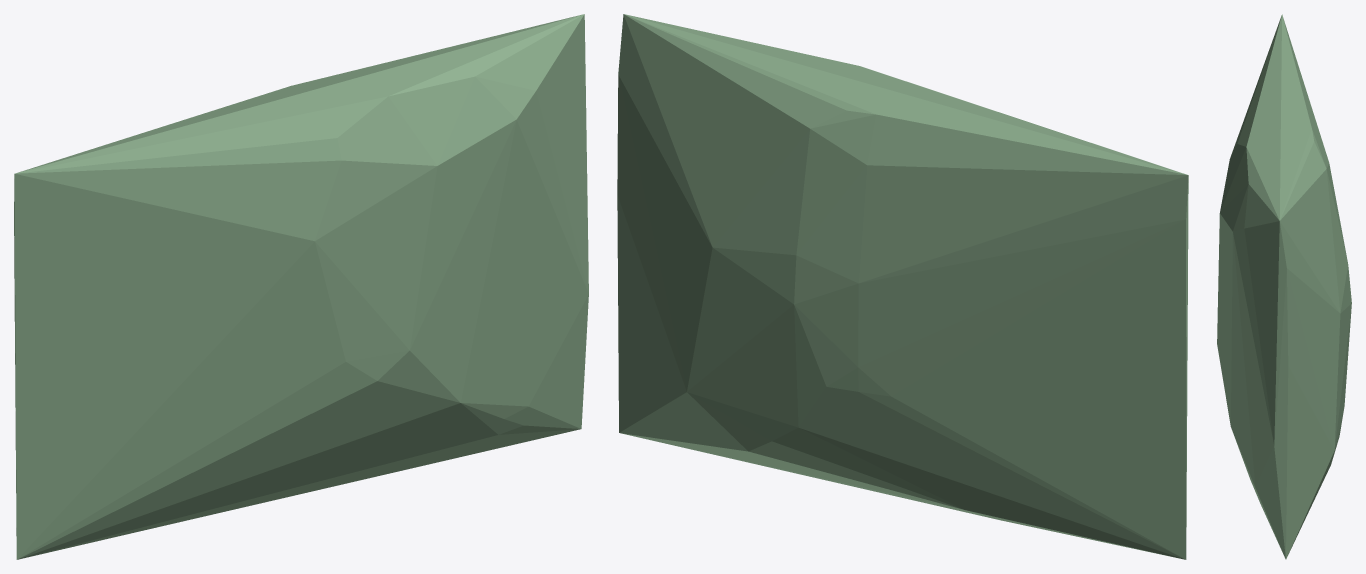
File: food_processed_chips_g01.glb
3 views of the same model, side by side, from view 1: azimuth 30°, elevation 25°; view 2: azimuth 150°, elevation 25°; view 3: azimuth 270°, elevation 25° (orthographic). The views are drawn at different scales.
Parts seen in each view (by area): view 1: geometry_0; view 2: geometry_0; view 3: geometry_0.
Boxes of the visible parts, x1,y1,x2,y2 form: geometry_0: (14,14,588,559); geometry_0: (617,14,1188,559); geometry_0: (1217,14,1351,559).
Bounding box in the file's own units: 0.48 × 0.3366 × 0.1215.
